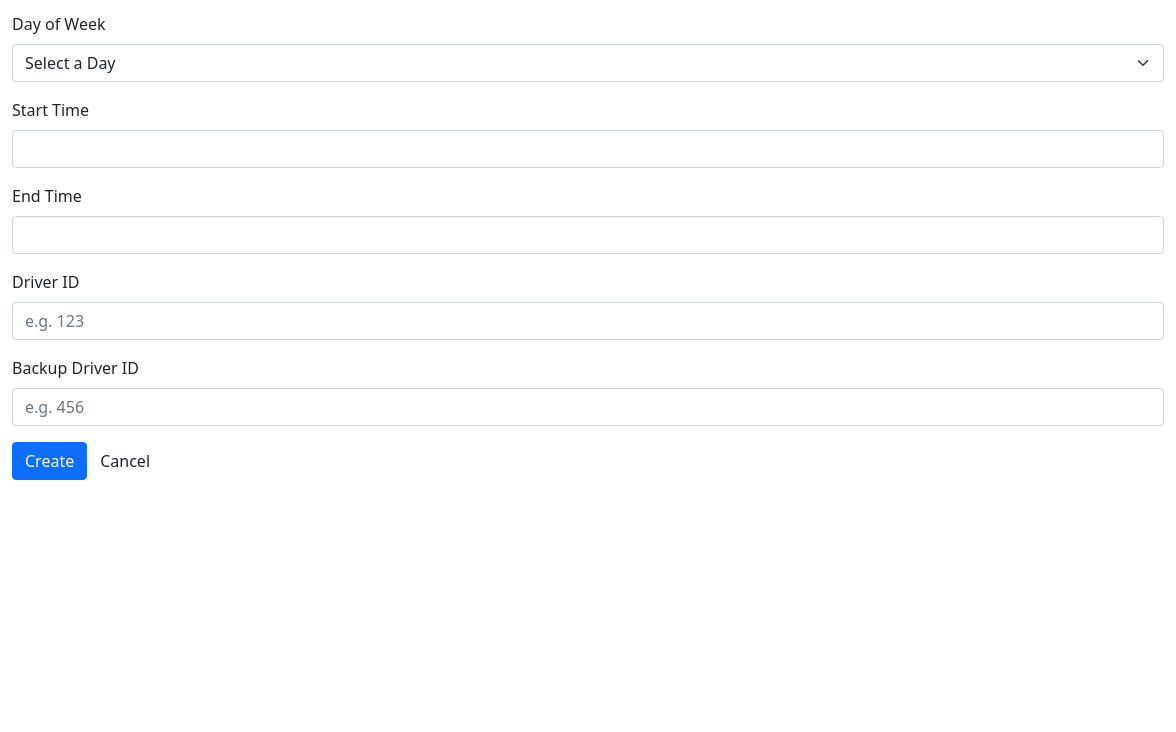
ShiftForm tests › Correct error messages on bad input
Check: the field with test id "ShiftForm-shiftStart" is shown, box [12,130,1164,168]
Select "Wednesday" in the dropdown with test id "ShiftForm-day". click: {"x": 588, "y": 63}
box: [12,44,1164,82]
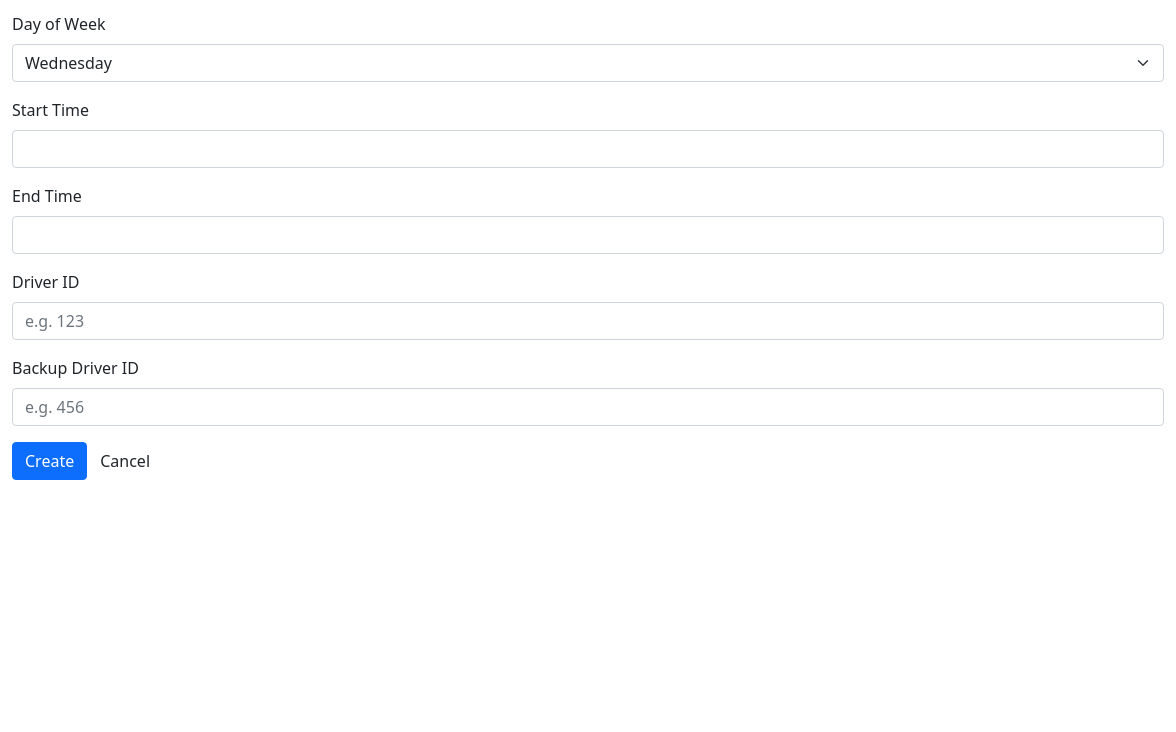
Type "bad-input" into the field with test id "ShiftForm-shiftStart". click: {"x": 588, "y": 149}
box: [12,130,1164,168]
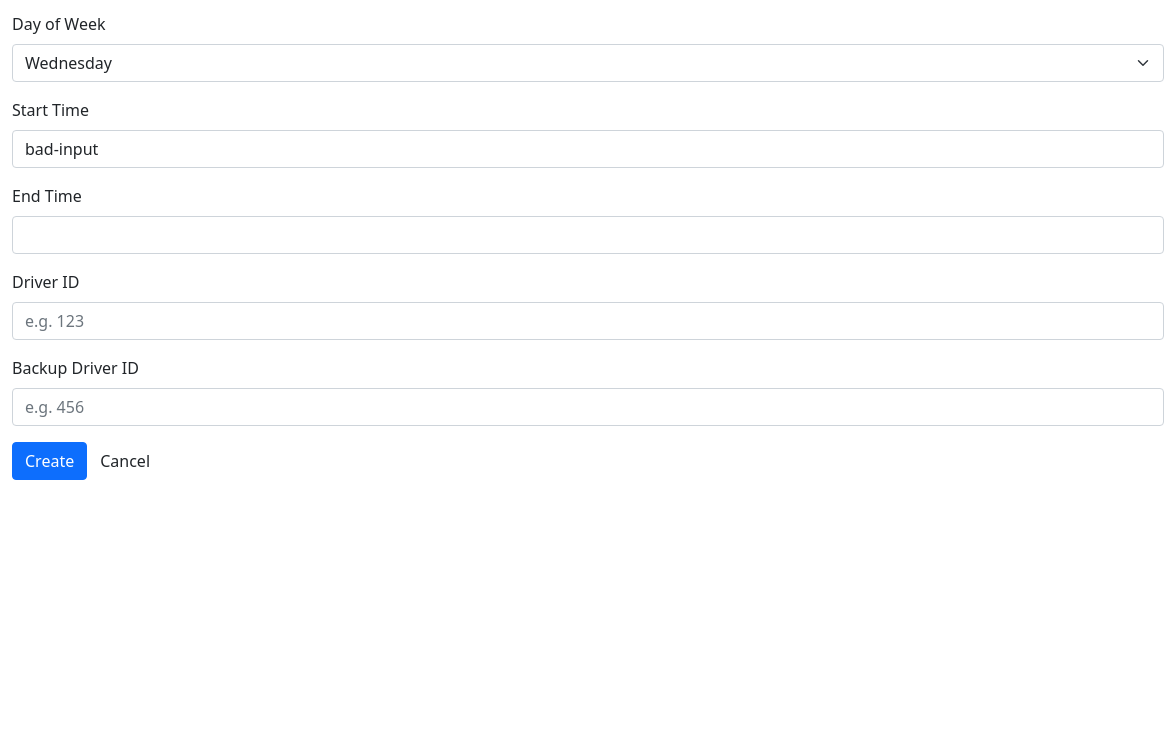
Type "bad-input" into the field with test id "ShiftForm-shiftEnd". click: {"x": 588, "y": 235}
box: [12,216,1164,254]
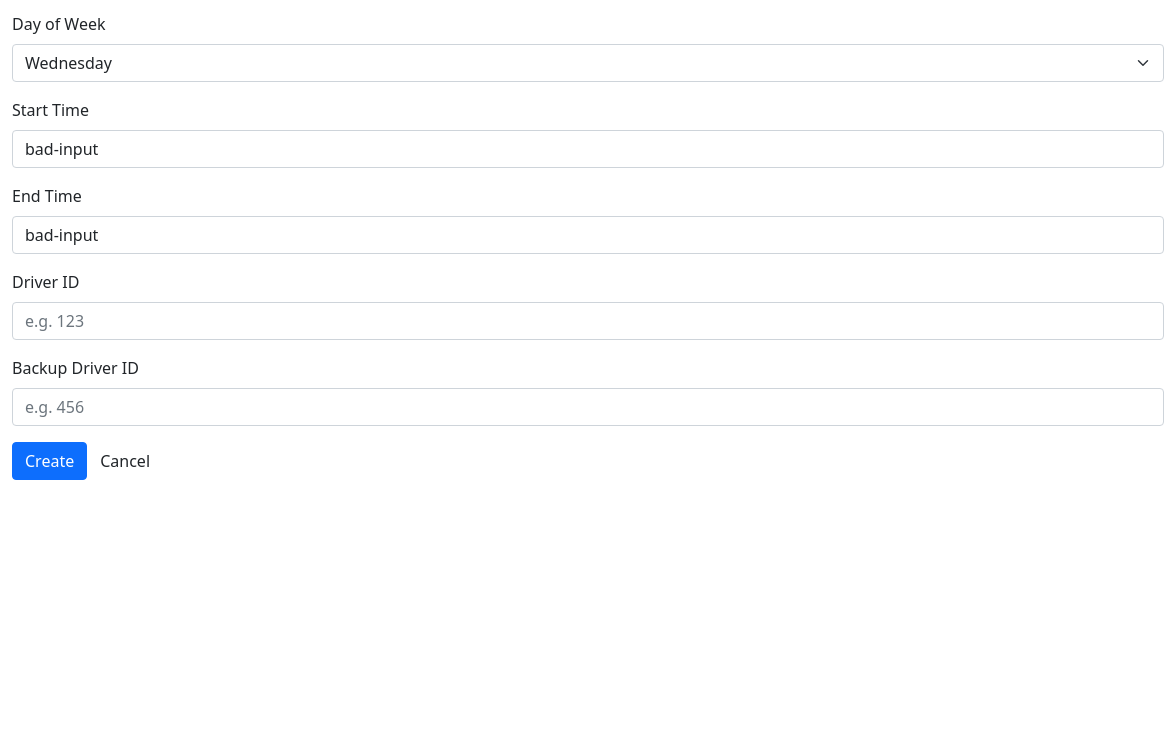
Type "6" into the field with test id "ShiftForm-driverID". click: {"x": 588, "y": 321}
box: [12,302,1164,340]
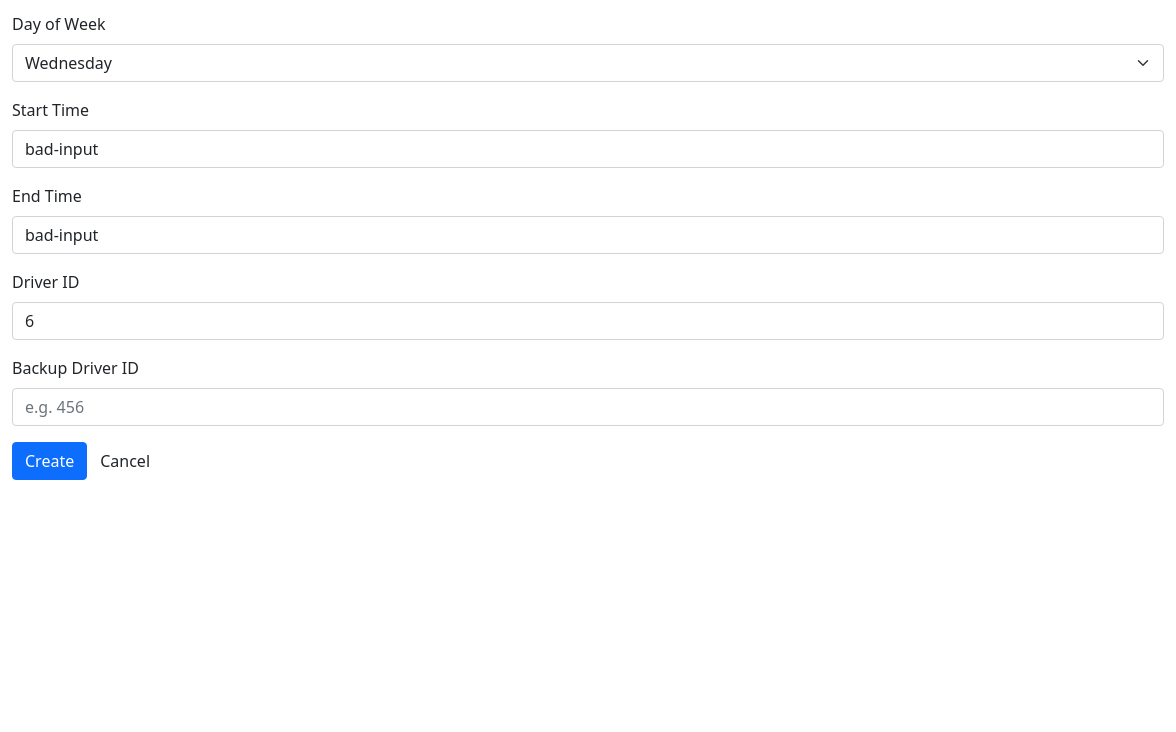
Type "10" into the field with test id "ShiftForm-driverBackupID". click: {"x": 588, "y": 407}
box: [12,388,1164,426]
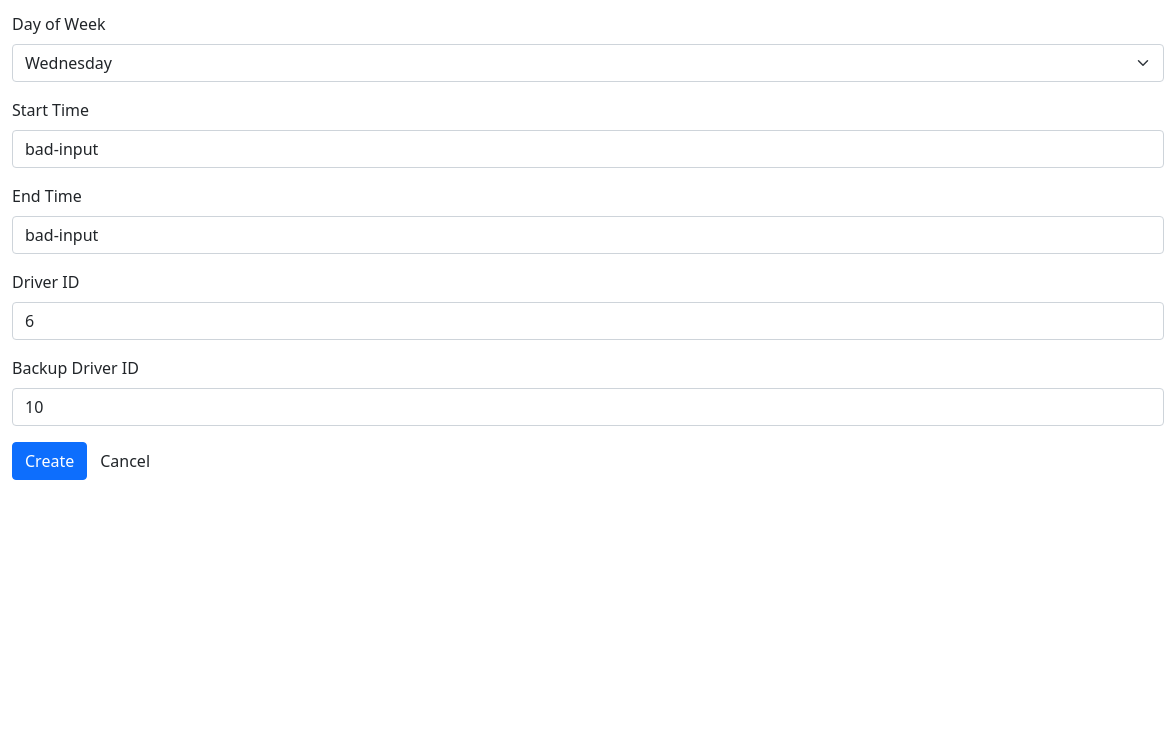
Click the button with test id "ShiftForm-submit". click: {"x": 50, "y": 461}
box: [12,442,87,480]
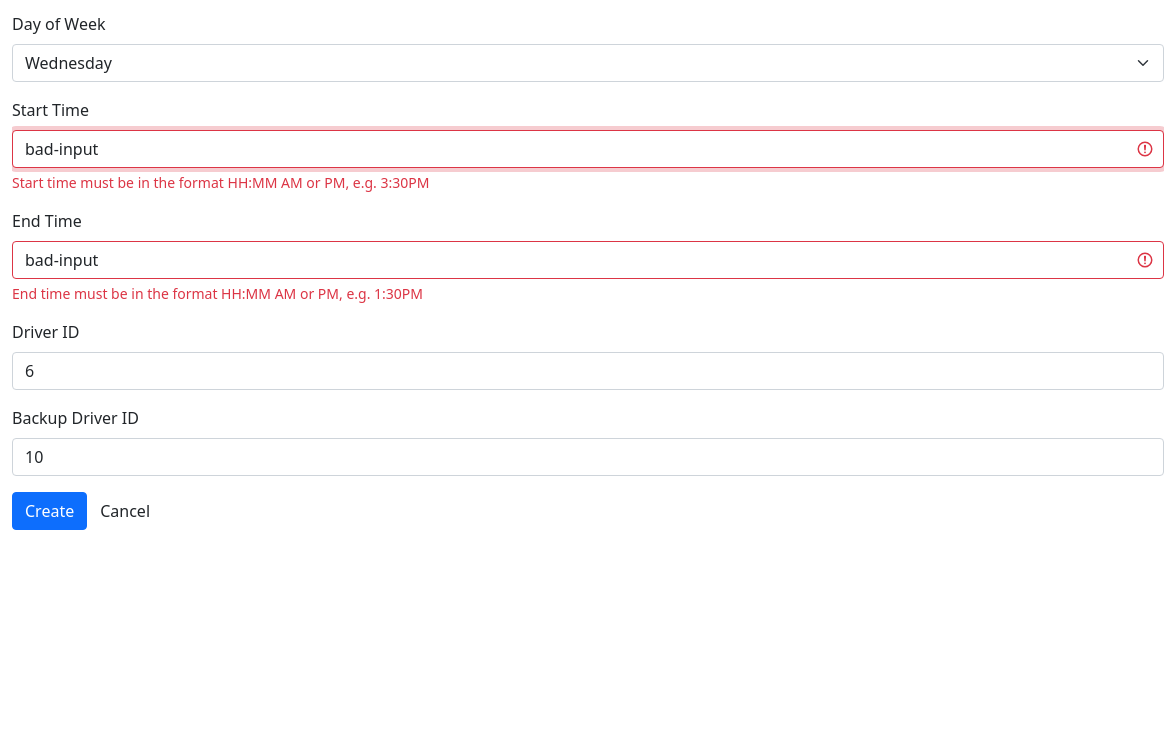
Check: the text "Start time must be in the format HH:MM AM or PM, e.g. 3:30PM" is shown, box [12,173,429,192]
Check: the text "End time must be in the format HH:MM AM or PM, e.g. 1:30PM" is shown, box [12,284,423,303]
